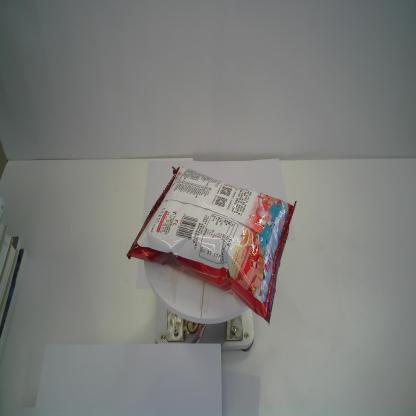Puffed Food: (126, 165, 297, 326)
